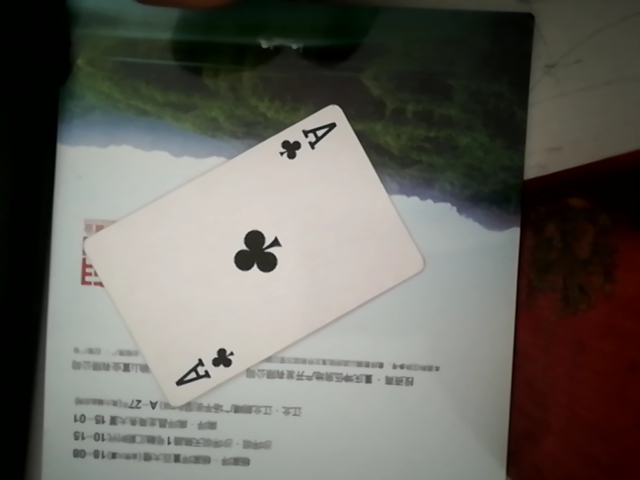mh a: (85, 101, 424, 399)
